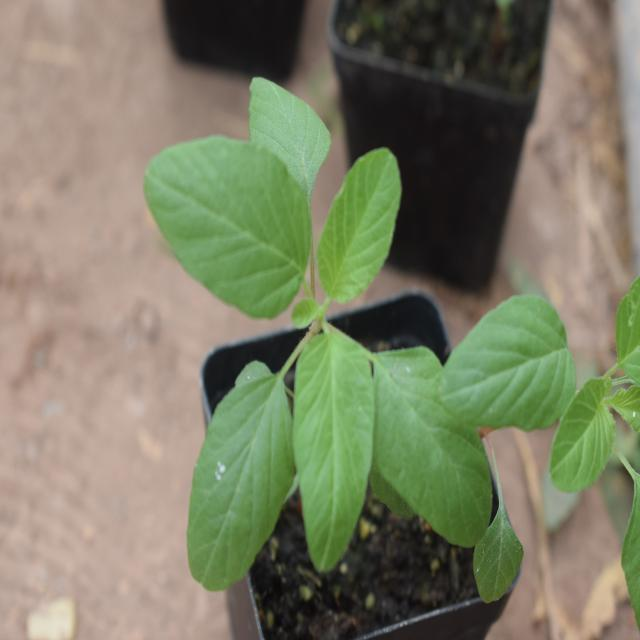pigweed: (126, 86, 484, 571)
